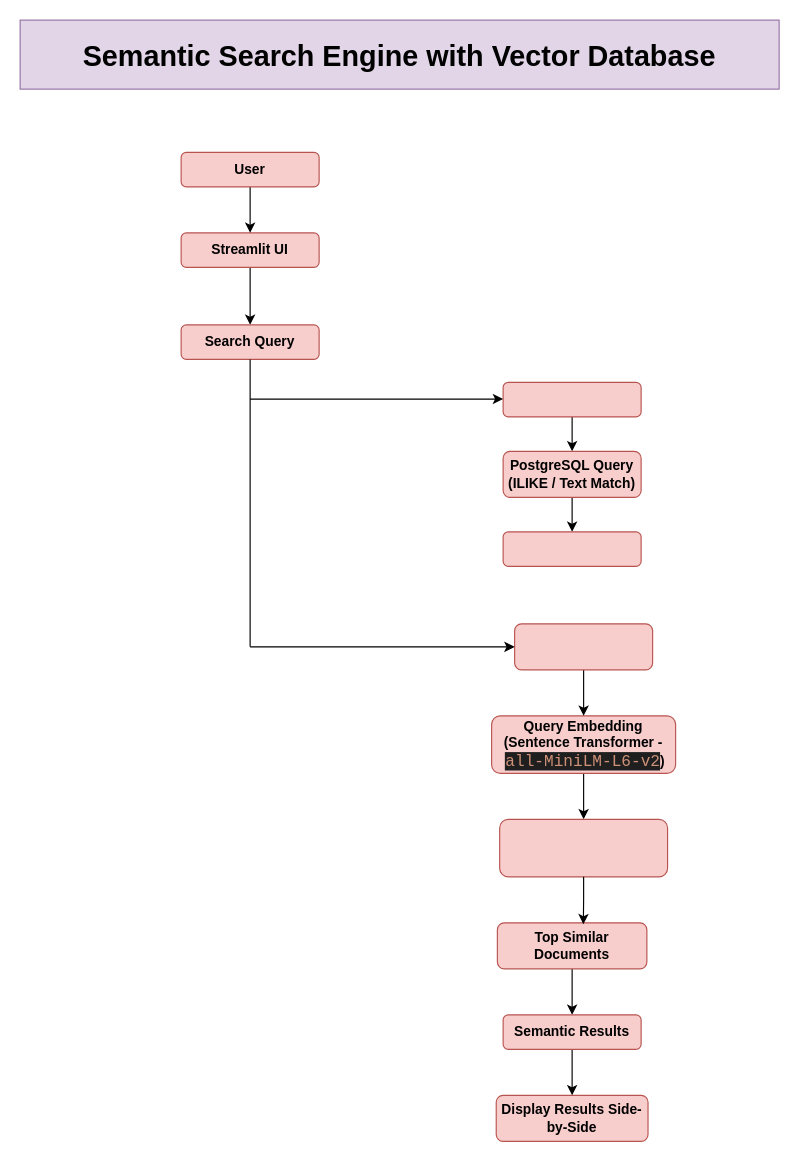
Image size: 799x1162. Some labels were removed from this diagram. Here are the shapes that lost their labels. From the top down, the box of each, then its label:
(502, 381, 641, 417): Keyword Search
(502, 531, 641, 566): Keyword Results
(513, 623, 653, 670): Semantic Search
(499, 818, 668, 877): PostgreSQL + pgvector Vector Similarity Search
